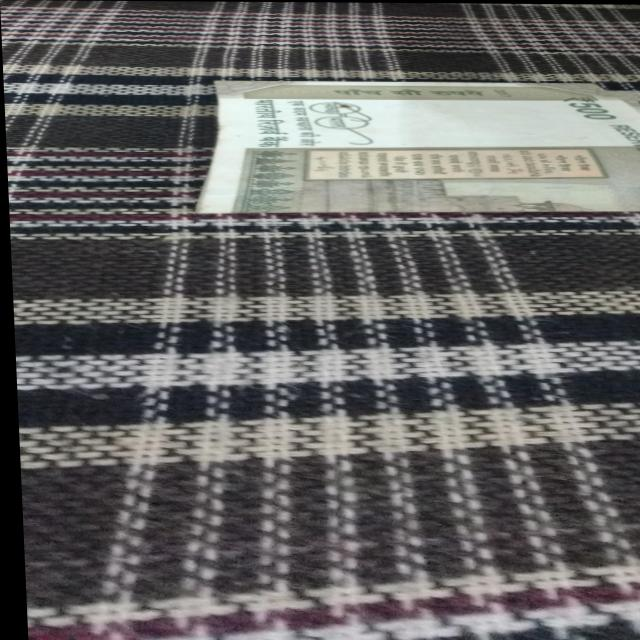Currency: (189, 75, 640, 227)
